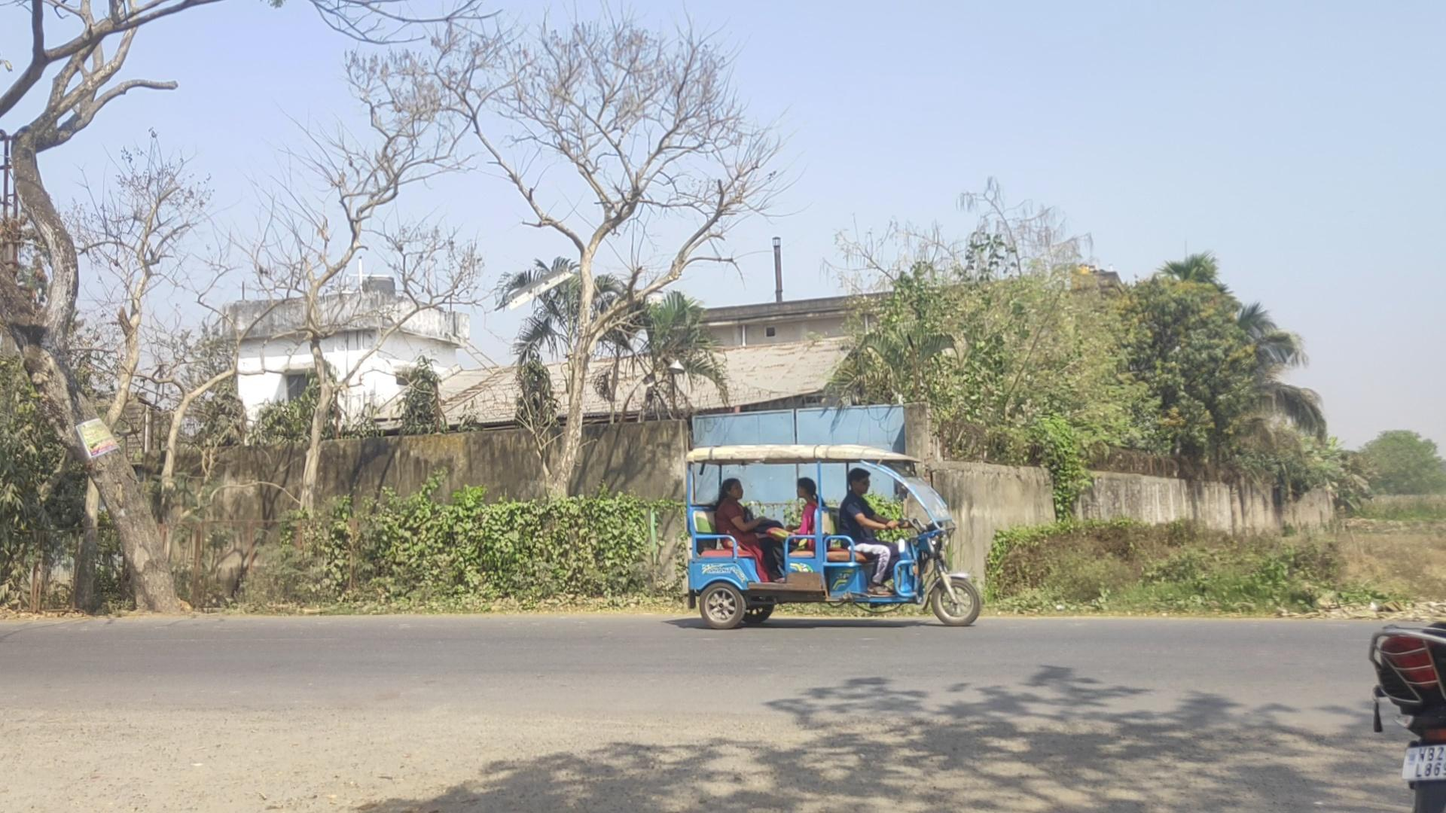Auto: (686, 445, 979, 631)
